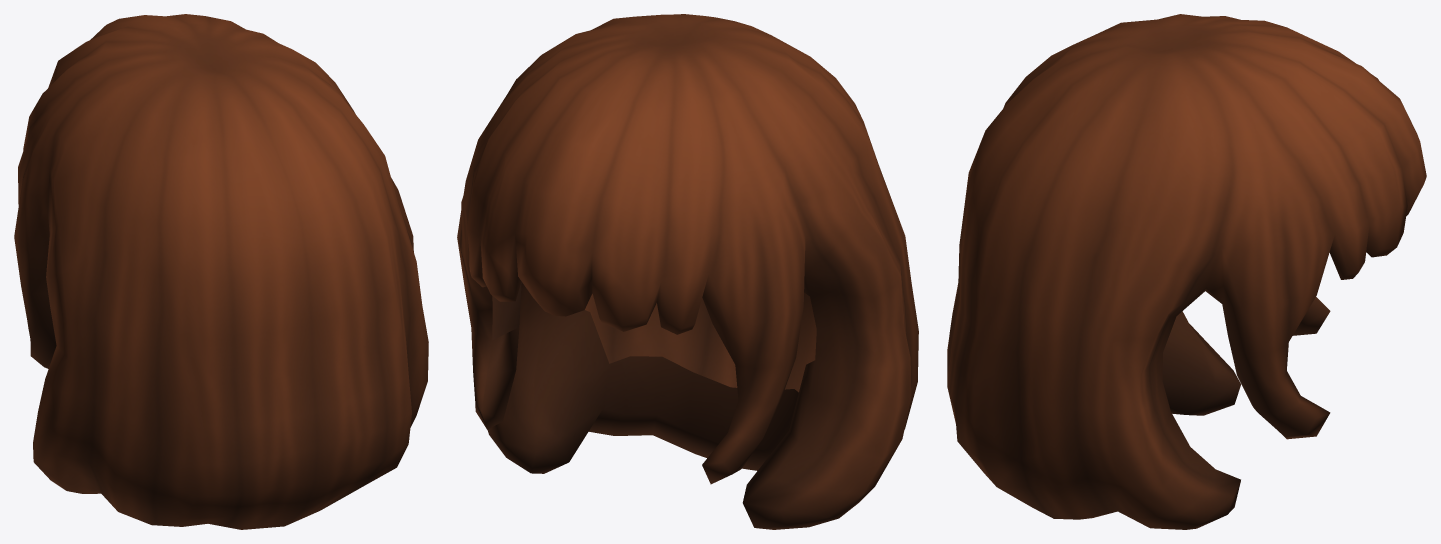
Rendered from Hair_Female_001_textured_brown.glb.
3 renders of one model, left to right at view 1: azimuth 30°, elevation 25°; view 2: azimuth 150°, elevation 25°; view 3: azimuth 270°, elevation 25°, orthographic. The views are drawn at different scales.
Parts seen in each view (by area): view 1: Hair_Female_001; view 2: Hair_Female_001; view 3: Hair_Female_001.
Part boxes in pixels (x1,y1,x2,y2): Hair_Female_001: (14, 14, 428, 529); Hair_Female_001: (457, 14, 918, 529); Hair_Female_001: (947, 14, 1426, 529).
Size of the model in its own units: 0.2205 by 0.2446 by 0.236.
Materials: 1 (1 with a texture image).
